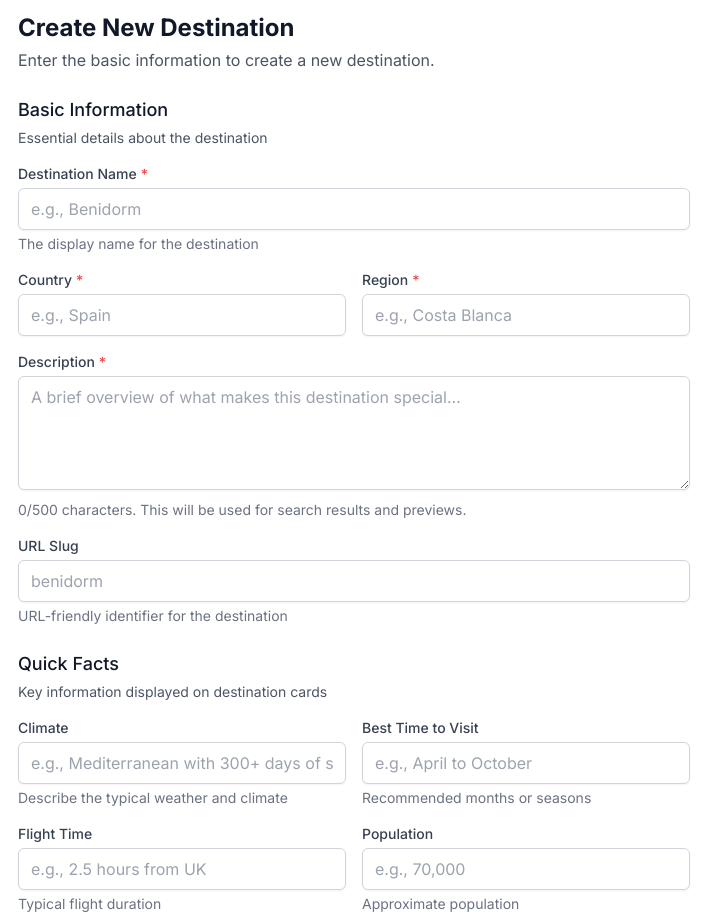
Test: DestinationForm - Basic Tests › generates slug from destination name
In the field labelled "Destination Name*": (354, 209) [18,188,690,230], type "Costa del Sol"
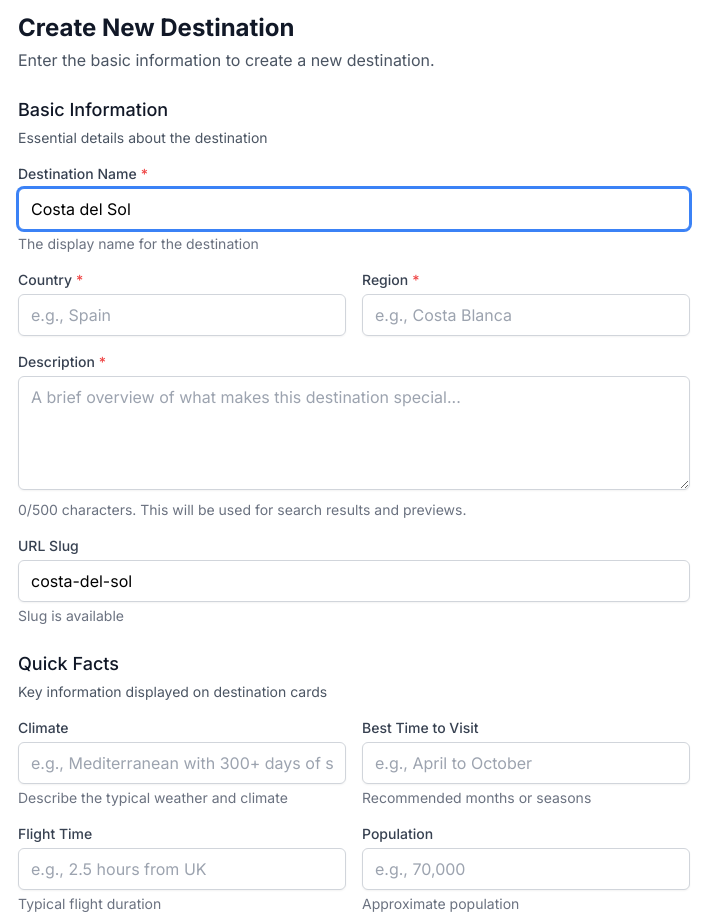
Now the field labelled "URL Slug" holds "costa-del-sol", box [18,560,690,602]
